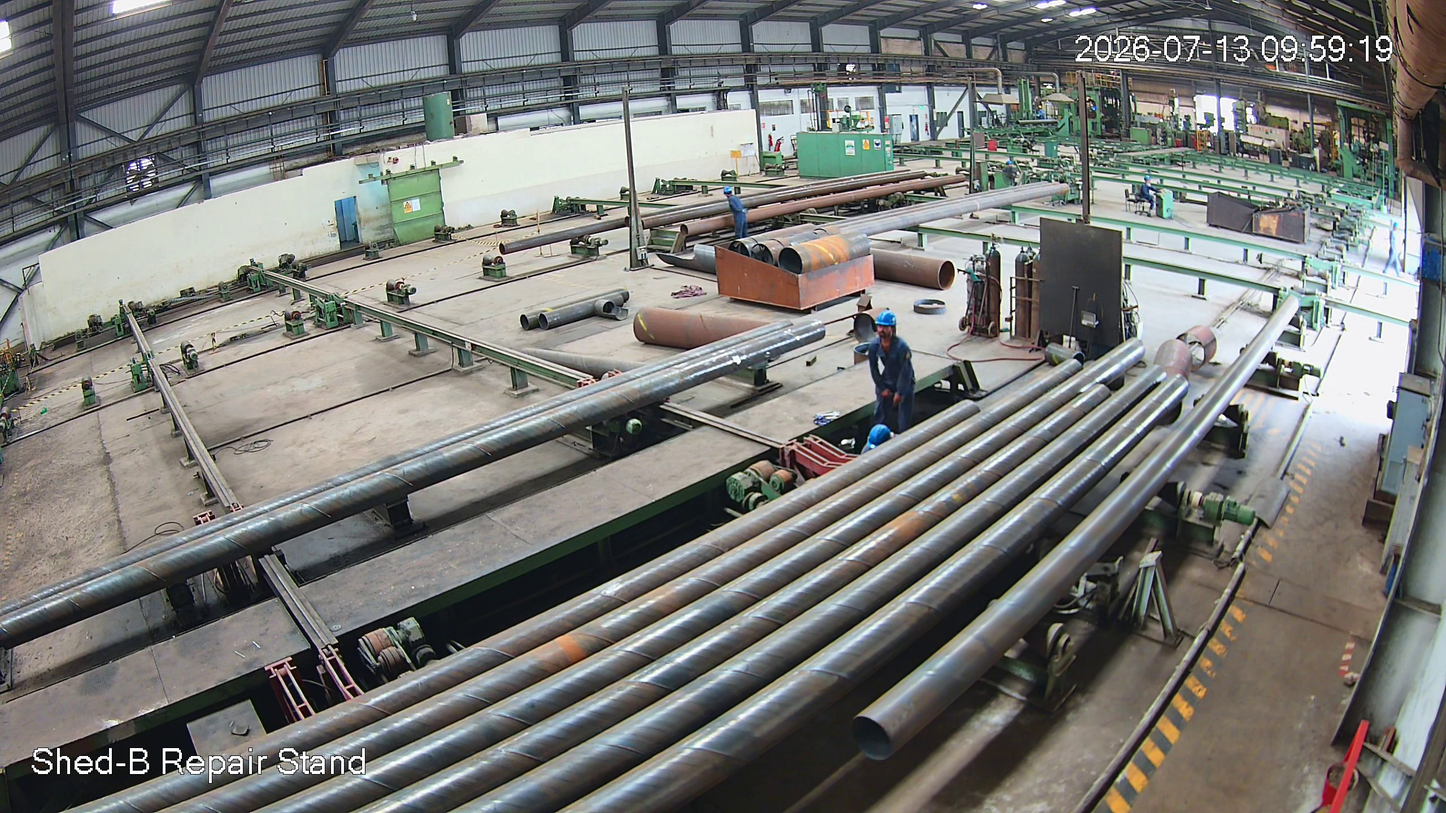Helmet: (872, 309, 907, 346), (722, 186, 735, 200)
Person: (867, 310, 922, 435), (723, 187, 751, 241)
